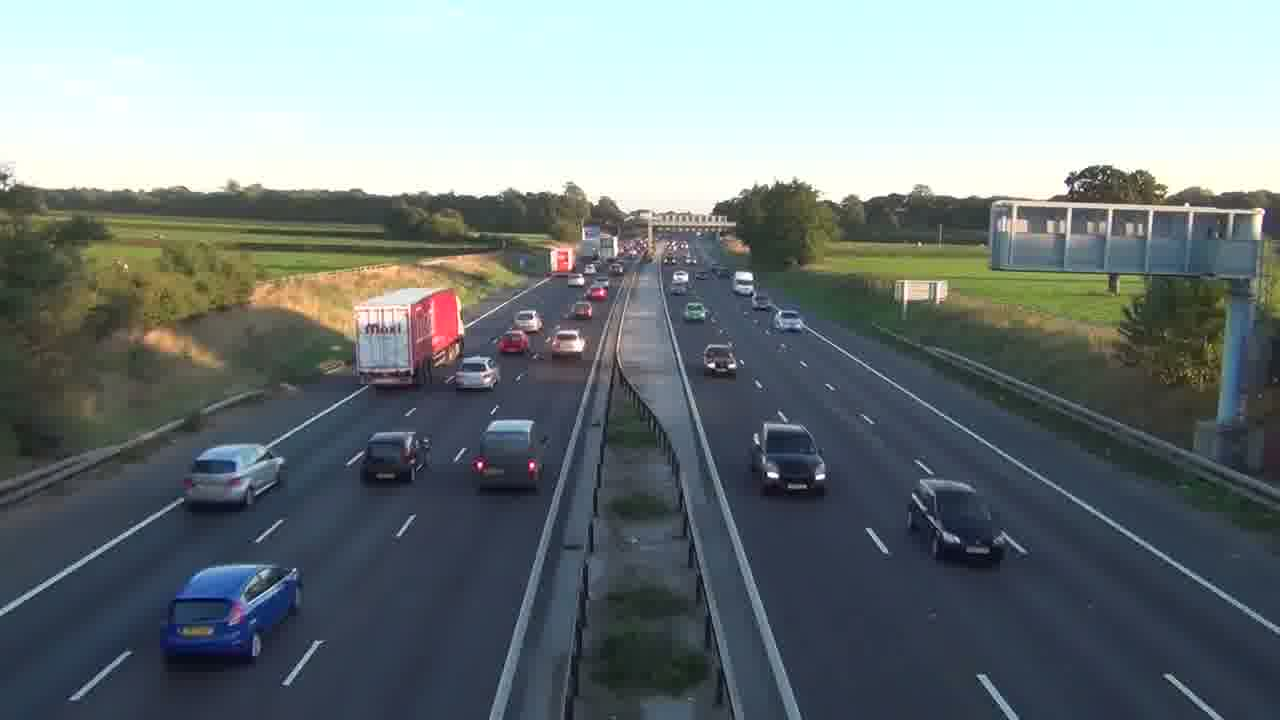car: (160, 561, 304, 662), (181, 442, 287, 510), (749, 421, 829, 495), (470, 418, 548, 492), (362, 430, 421, 482), (452, 355, 501, 390), (703, 341, 739, 378), (549, 329, 586, 359), (497, 331, 530, 356), (512, 309, 545, 333)
truck: (353, 286, 465, 389), (732, 271, 755, 297)
